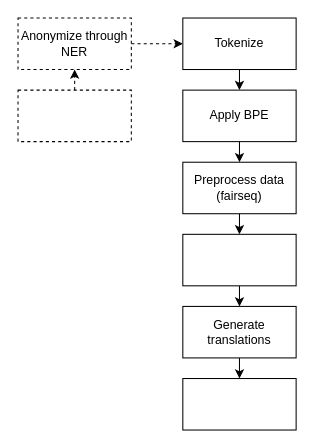
Some shapes in this 314 by 448 pixel diagram are drawn without their labels. Here are the shapes that lost their labels. From the top down, the centre of each, then its label:
At point 74,115: "Anonymize through TF-IDF".
At point 239,259: "Finetune model".
At point 239,403: "Score translations".
